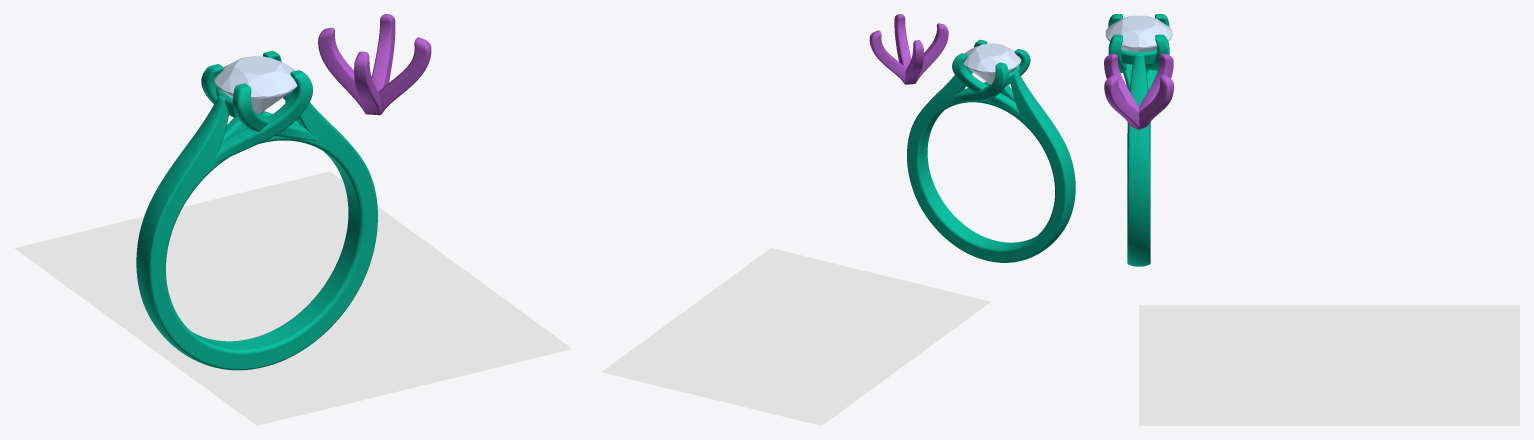
3 renders of one model, left to right at view 1: azimuth 30°, elevation 25°; view 2: azimuth 150°, elevation 25°; view 3: azimuth 270°, elevation 25°, orthographic. The views are drawn at different scales.
Visible parts, largest first — view 1: VR-69(front).3dm, Head Prong (×4), Diamond_Round; view 2: VR-69(front).3dm, Head Prong (×4), Diamond_Round; view 3: VR-69(front).3dm, Head Prong (×4), Diamond_Round.
Boxes of the visible parts, box(x1,y1,x2,y2) form: VR-69(front).3dm: box(14, 51, 571, 425); Head Prong (×4): box(318, 14, 431, 115); Diamond_Round: box(214, 56, 297, 114); VR-69(front).3dm: box(601, 39, 1075, 425); Head Prong (×4): box(869, 14, 948, 84); Diamond_Round: box(963, 43, 1021, 84); VR-69(front).3dm: box(1108, 14, 1519, 425); Head Prong (×4): box(1104, 53, 1173, 129); Diamond_Round: box(1105, 15, 1172, 51).
Bounding box in the file's own units: 4.6 × 3.71 × 4.9.
